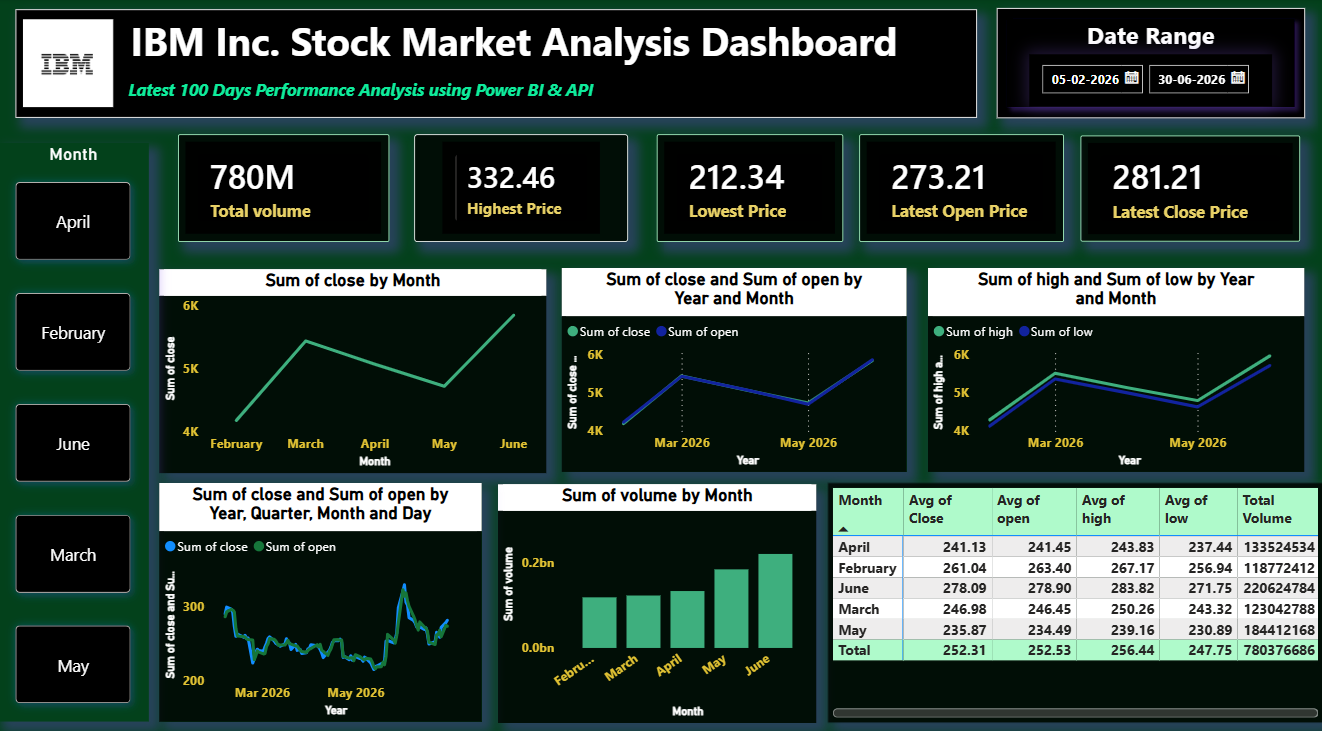

This screenshot's page, from the dashboard's own definition file:
{"tool":"powerbi","page":{"name":"IBM","canvas":[1280,720],"ordinal":1},"visuals":[{"type":"shape","box":[963.9,9.7,298,106.2],"z":0},{"type":"textbox","box":[16.9,10.9,927.8,105],"z":1000},{"type":"lineChart","fields":{"Category":["IBM Stock (2).Date.Variation.Date Hierarchy.Month"],"Y":["Sum(IBM Stock (2).close)"]},"box":[155.6,261.8,374,196.6],"z":2000},{"type":"lineChart","fields":{"Category":["IBM Stock (2).Date.Variation.Date Hierarchy.Year","IBM Stock (2).Date.Variation.Date Hierarchy.Month"],"Y":["Sum(IBM Stock (2).close)","Sum(IBM Stock (2).open)"]},"box":[544.1,260.6,333,196.6],"z":3000},{"type":"cardVisual","fields":{"Data":["Sum(IBM Stock (2).volume)"]},"box":[173.7,131.5,203.9,103.8],"z":4000},{"type":"lineChart","fields":{"Category":["IBM Stock (2).Date.Variation.Date Hierarchy.Year","IBM Stock (2).Date.Variation.Date Hierarchy.Month"],"Y":["Sum(IBM Stock (2).high)","Sum(IBM Stock (2).low)"]},"box":[897.6,260.6,363.1,196.6],"z":5000},{"type":"columnChart","fields":{"Category":["IBM Stock (2).Date.Variation.Date Hierarchy.Month"],"Y":["Sum(IBM Stock.volume)"]},"box":[482.5,468.8,307.5,230],"z":6000},{"type":"pivotTable","fields":{"Rows":["IBM Stock (2).Month "],"Values":["Avg(IBM Stock (2).close)","Avg(IBM Stock (2).open)","Avg(IBM Stock (2).high)","Avg(IBM Stock (2).low)","Sum(IBM Stock (2).volume)"]},"box":[801.2,467.5,478.8,231.2],"z":7000},{"type":"advancedSlicerVisual","fields":{"Values":["IBM Stock (2).Month "]},"box":[0,139.9,146,558.6],"z":8000},{"type":"slicer","fields":{"Values":["IBM Stock (2).Date"]},"box":[995.3,54.3,234,50.7],"z":9000},{"type":"cardVisual","fields":{"Data":["Max(IBM Stock (2).high)"]},"box":[401.7,131.5,206.3,103.8],"z":10000},{"type":"cardVisual","fields":{"Data":["Min(IBM Stock (2).low)"]},"box":[635.8,131.5,179.8,103.8],"z":11000},{"type":"cardVisual","fields":{"Data":["Sum(IBM Stock (2).close)"]},"box":[1044.8,132.7,212.3,102.5],"z":12000},{"type":"cardVisual","fields":{"Data":["Sum(IBM Stock (2).open)"]},"box":[831.2,131.5,197.9,103.8],"z":13000},{"type":"lineChart","fields":{"Category":["IBM Stock.Date.Variation.Date Hierarchy.Year","IBM Stock.Date.Variation.Date Hierarchy.Quarter","IBM Stock.Date.Variation.Date Hierarchy.Month","IBM Stock.Date.Variation.Date Hierarchy.Day"],"Y":["Sum(IBM Stock.close)","Sum(IBM Stock.open)"]},"box":[155.6,468.1,311.3,230.4],"z":15000},{"type":"image","box":[16.9,20.5,101.3,84.5],"z":15001}]}

Visuals, with their boxes in screenshot pixels (x1, y1, x2, y2), scaled from the page's 1280x720 canvas onto the 1322x731 screenshot:
shape: <box>996,10,1303,118</box>
textbox: <box>17,11,976,118</box>
lineChart - IBM Stock (2).Date.Variation.Date Hierarchy.Month x Sum(IBM Stock (2).close): <box>161,266,547,465</box>
lineChart - IBM Stock (2).Date.Variation.Date Hierarchy.Year x IBM Stock (2).Date.Variation.Date Hierarchy.Month: <box>562,265,906,464</box>
cardVisual - Sum(IBM Stock (2).volume): <box>179,134,390,239</box>
lineChart - IBM Stock (2).Date.Variation.Date Hierarchy.Year x IBM Stock (2).Date.Variation.Date Hierarchy.Month: <box>927,265,1302,464</box>
columnChart - IBM Stock (2).Date.Variation.Date Hierarchy.Month x Sum(IBM Stock.volume): <box>498,476,816,709</box>
pivotTable - IBM Stock (2).Month  x Avg(IBM Stock (2).close): <box>827,475,1321,709</box>
advancedSlicerVisual - IBM Stock (2).Month : <box>0,142,151,709</box>
slicer - IBM Stock (2).Date: <box>1028,55,1270,107</box>
cardVisual - Max(IBM Stock (2).high): <box>415,134,628,239</box>
cardVisual - Min(IBM Stock (2).low): <box>657,134,842,239</box>
cardVisual - Sum(IBM Stock (2).close): <box>1079,135,1298,239</box>
cardVisual - Sum(IBM Stock (2).open): <box>858,134,1063,239</box>
lineChart - IBM Stock.Date.Variation.Date Hierarchy.Year x IBM Stock.Date.Variation.Date Hierarchy.Quarter: <box>161,475,482,709</box>
image: <box>17,21,122,107</box>
